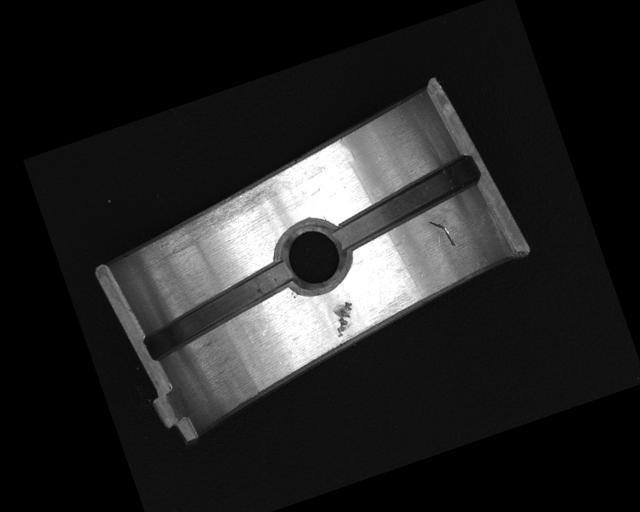bruise: (326, 299, 360, 338)
gap: (133, 260, 301, 361), (324, 153, 487, 251)
hole: (269, 213, 356, 300)
nick: (428, 215, 457, 251)
scratch: (149, 175, 290, 260)
